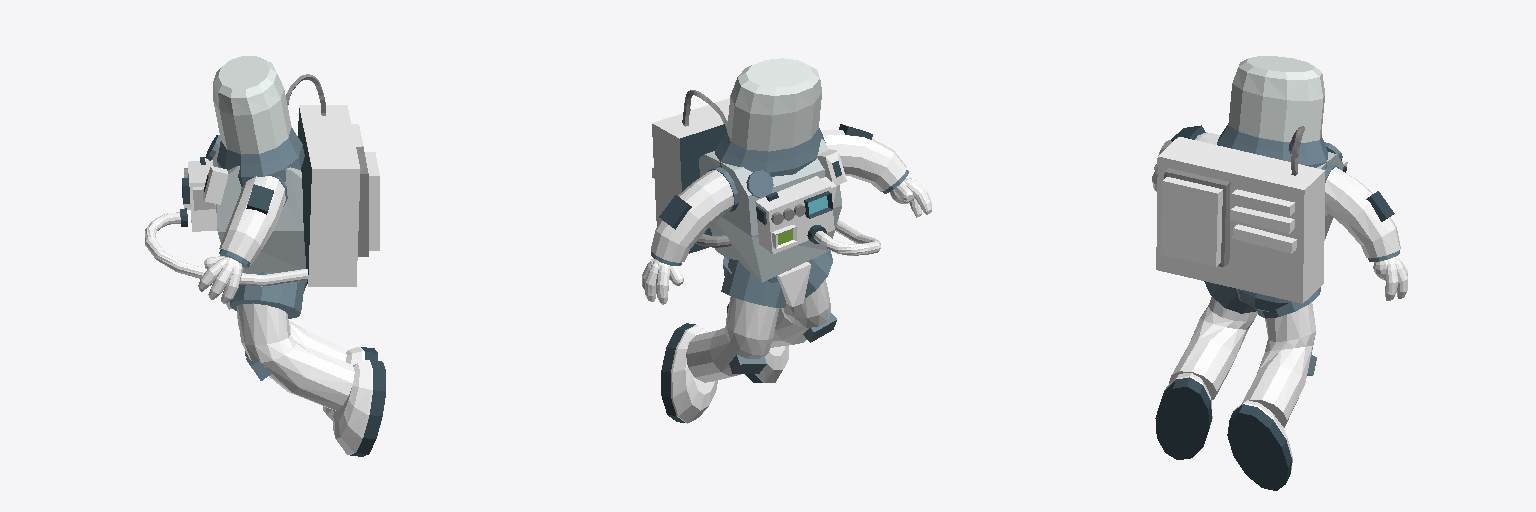
3 views of the same model, side by side, from view 1: azimuth 30°, elevation 25°; view 2: azimuth 150°, elevation 25°; view 3: azimuth 270°, elevation 25° (orthographic).
Parts seen in each view (by area): view 1: group[number redacted], group[number redacted], group[number redacted], group[number redacted], group[number redacted], group[number redacted], group[number redacted], group[number redacted], group[number redacted], group[number redacted], group[number redacted], group[number redacted] (+1 smaller); view 2: group[number redacted], group[number redacted], group[number redacted], group[number redacted], group[number redacted], group[number redacted], group[number redacted], group[number redacted], group[number redacted], group[number redacted], group[number redacted], group[number redacted] (+7 smaller); view 3: group[number redacted], group[number redacted], group[number redacted], group[number redacted], group[number redacted], group[number redacted], group[number redacted], group[number redacted], group[number redacted], group[number redacted], group[number redacted], group[number redacted] (+1 smaller).
Boxes of the visible parts, x1,y1,x2,y2 form: group[number redacted]: [298, 105, 360, 286]; group[number redacted]: [213, 56, 304, 186]; group[number redacted]: [237, 303, 354, 410]; group[number redacted]: [198, 176, 287, 303]; group[number redacted]: [212, 146, 305, 274]; group[number redacted]: [333, 360, 385, 456]; group[number redacted]: [356, 146, 379, 256]; group[number redacted]: [145, 212, 307, 286]; group[number redacted]: [230, 272, 304, 318]; group[number redacted]: [188, 160, 216, 231]; group[number redacted]: [237, 312, 346, 361]; group[number redacted]: [203, 166, 228, 204]; group[number redacted]: [715, 58, 825, 176]; group[number redacted]: [699, 139, 841, 282]; group[number redacted]: [642, 167, 738, 304]; group[number redacted]: [652, 98, 729, 253]; group[number redacted]: [686, 296, 778, 382]; group[number redacted]: [821, 130, 931, 217]; group[number redacted]: [661, 323, 717, 423]; group[number redacted]: [755, 176, 834, 253]; group[number redacted]: [771, 279, 830, 347]; group[number redacted]: [721, 259, 785, 307]; group[number redacted]: [814, 219, 880, 255]; group[number redacted]: [777, 262, 810, 306]; group[number redacted]: [1156, 137, 1325, 303]; group[number redacted]: [1217, 56, 1327, 168]; group[number redacted]: [1160, 168, 1230, 266]; group[number redacted]: [1242, 302, 1315, 427]; group[number redacted]: [1325, 164, 1407, 300]; group[number redacted]: [1227, 400, 1292, 490]; group[number redacted]: [1169, 297, 1257, 399]; group[number redacted]: [1155, 373, 1212, 459]; group[number redacted]: [1230, 206, 1294, 233]; group[number redacted]: [1232, 224, 1296, 253]; group[number redacted]: [1232, 189, 1294, 216]; group[number redacted]: [1204, 281, 1256, 313].
Bounding box in the file's own units: 2.71 × 4.48 × 2.75.